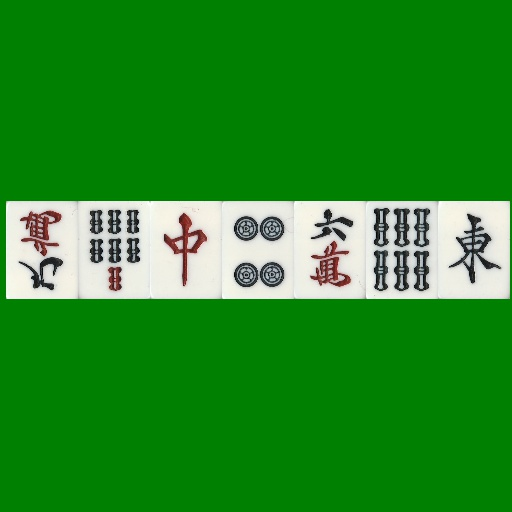4p: (222, 201, 294, 299)
6m: (294, 201, 366, 299)
6s: (366, 201, 438, 299)
7s: (78, 201, 150, 299)
9m: (6, 201, 78, 299)
east: (438, 201, 510, 299)
tyun: (150, 201, 222, 299)
